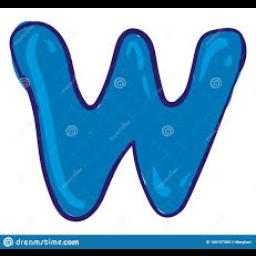w: (0, 15, 256, 227)
